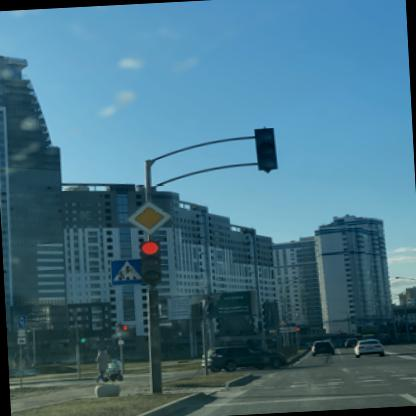crosswalk: (109, 257, 142, 284)
trafficlight: (255, 124, 281, 172), (140, 238, 164, 284)
